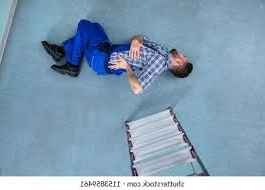fall: (39, 19, 197, 96)
